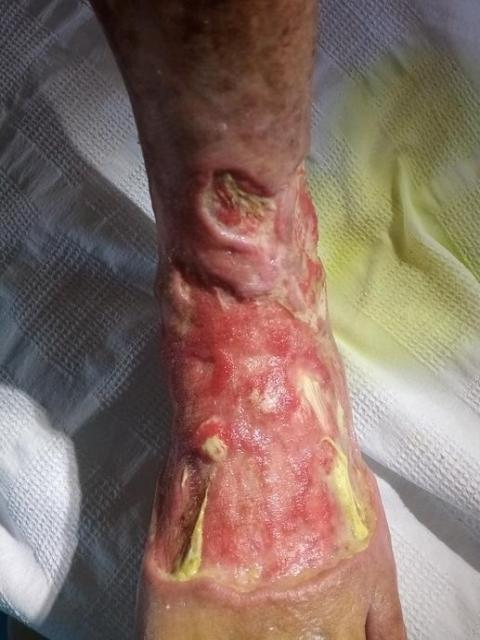wound: (159, 156, 374, 597)
